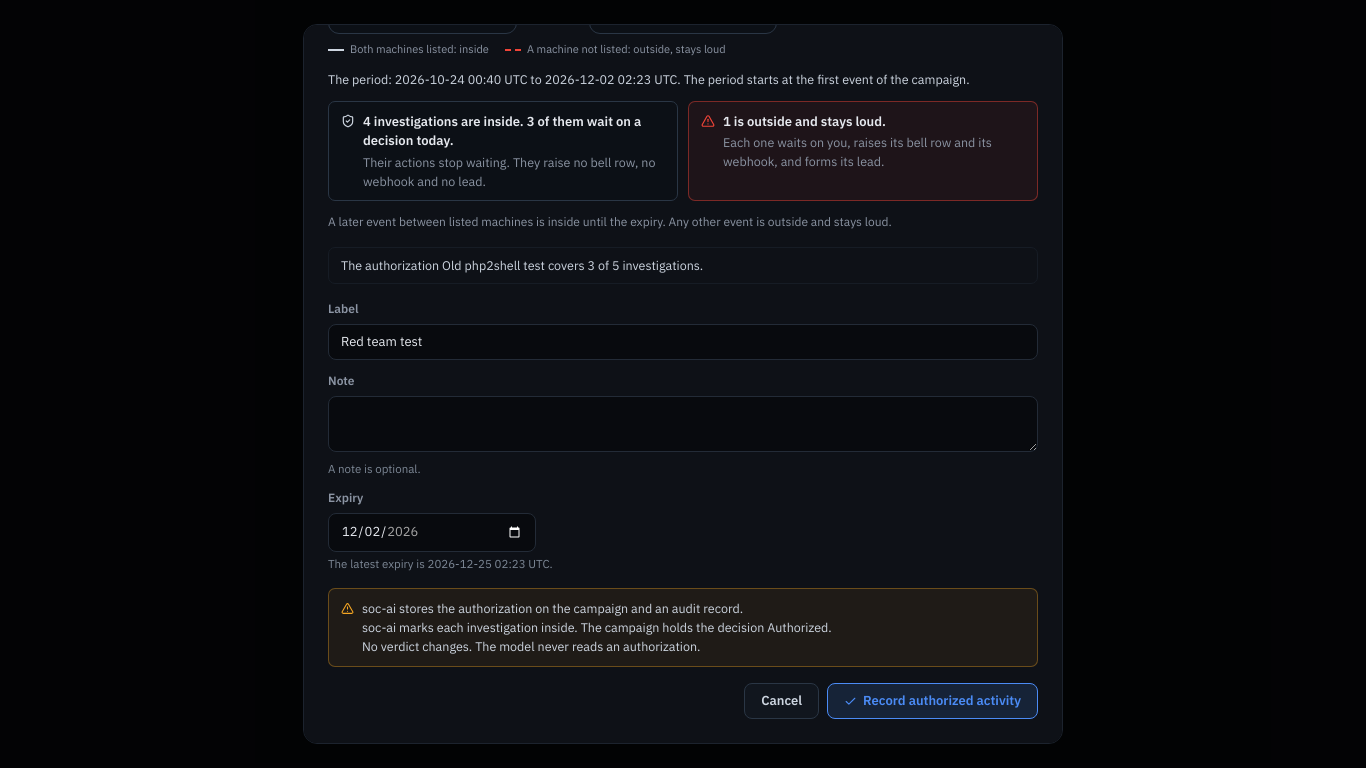
the dialog Record authorized activity › sends no request in the demo
(page scrolled)
Click the button "Record authorized activity" at (933, 701), box x1=827 y1=683 x2=1038 y2=719
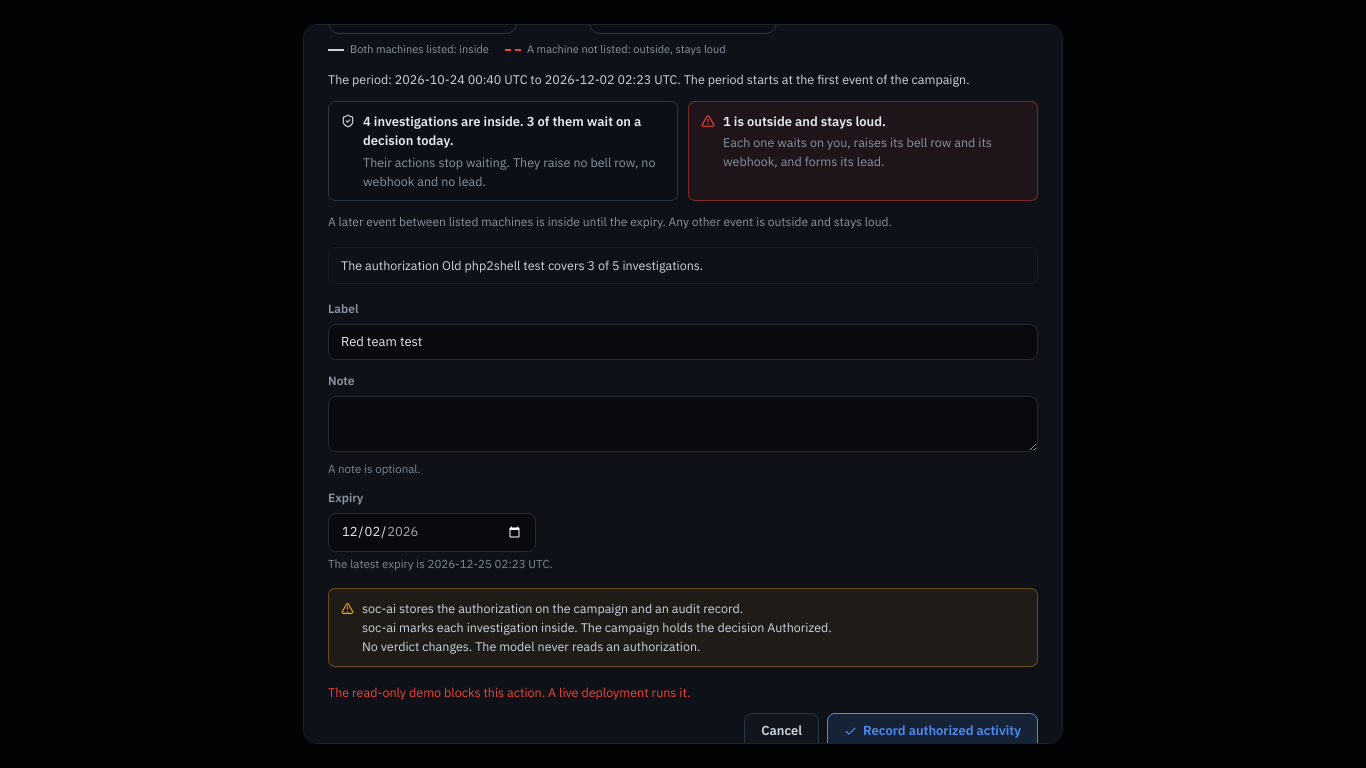
Expected: the message reads "The read-only demo blocks this action. A live deployment runs it.", x1=328 y1=684 x2=690 y2=700
